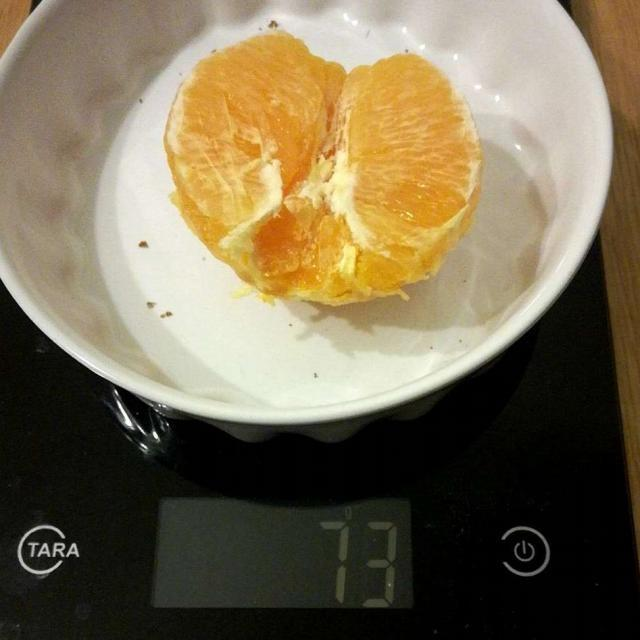orange: (167, 30, 482, 300)
